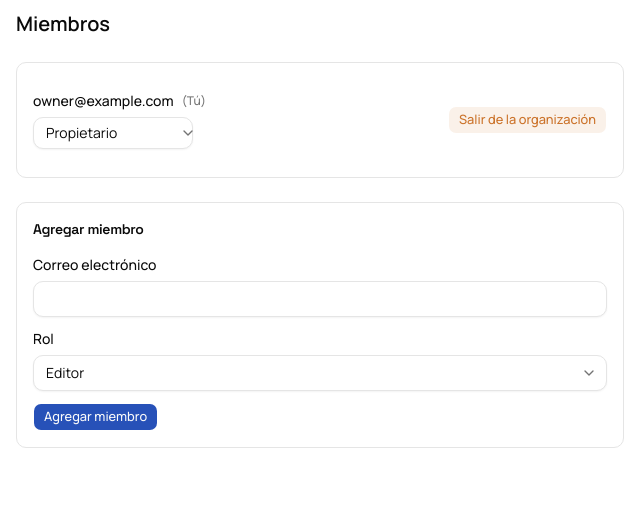
it: MembersPage › a 409 on self-leave for the sole owner renders inline on that row, member remains listed
The image size is (641, 521).
Click the button "Salir de la organización": (528, 120) [448,106,607,134]
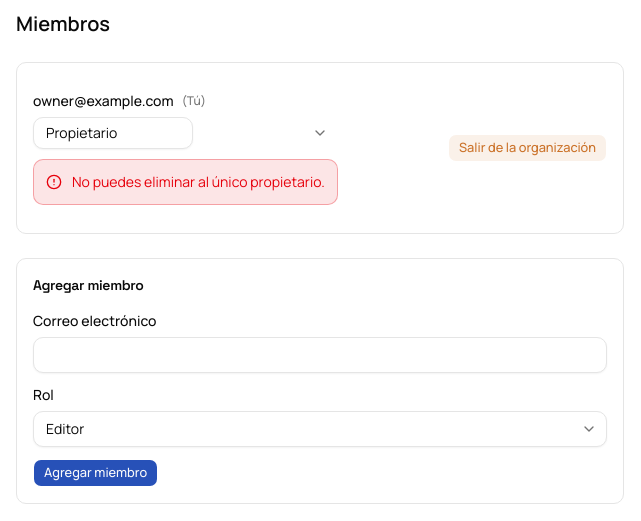
Check: the number of list items is 1, box [33,79,607,217]
Check: the message reads "No puedes eliminar al único propietario.", box [72,172,325,191]
